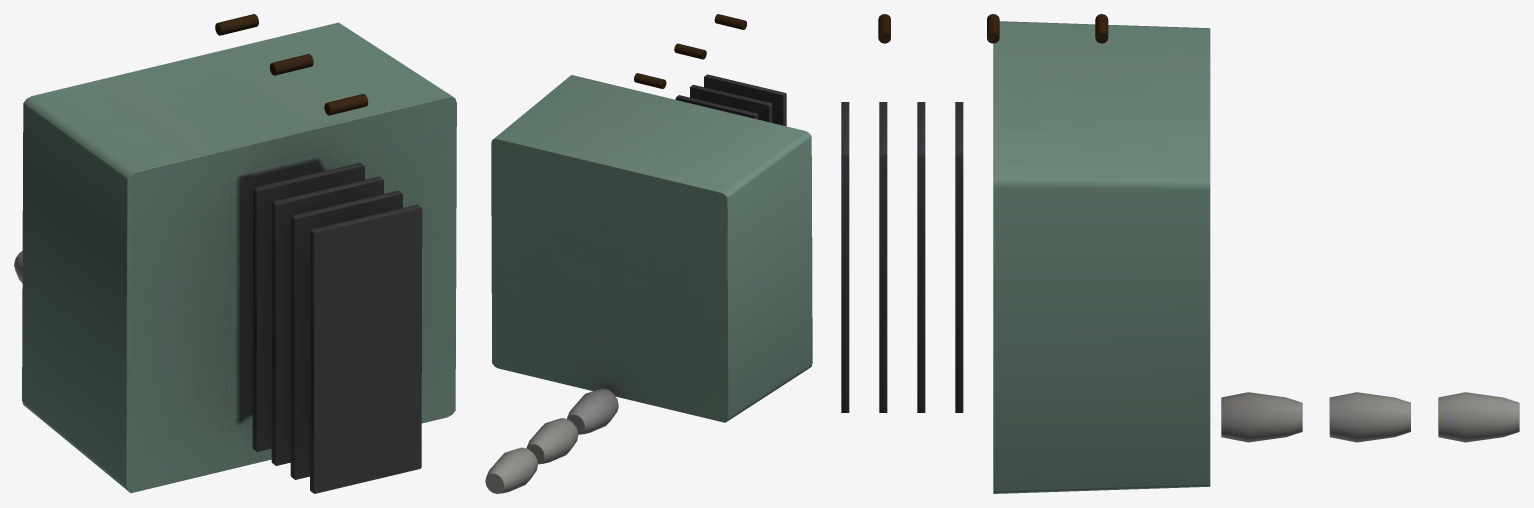
Rendered from LV_transformer.glb.
3 views of the same model, side by side, from view 1: azimuth 30°, elevation 25°; view 2: azimuth 150°, elevation 25°; view 3: azimuth 270°, elevation 25° (orthographic). The views are drawn at different scales.
Visible parts, largest first — view 1: LV_transformer; view 2: LV_transformer; view 3: LV_transformer.
Boxes of the visible parts, <box> form: LV_transformer: <box>14,14,456,493</box>; LV_transformer: <box>485,14,812,493</box>; LV_transformer: <box>841,14,1519,493</box>.
Size of the model in its own units: 1.4 by 1.7 by 2.5.
1 material, 1 textured.
